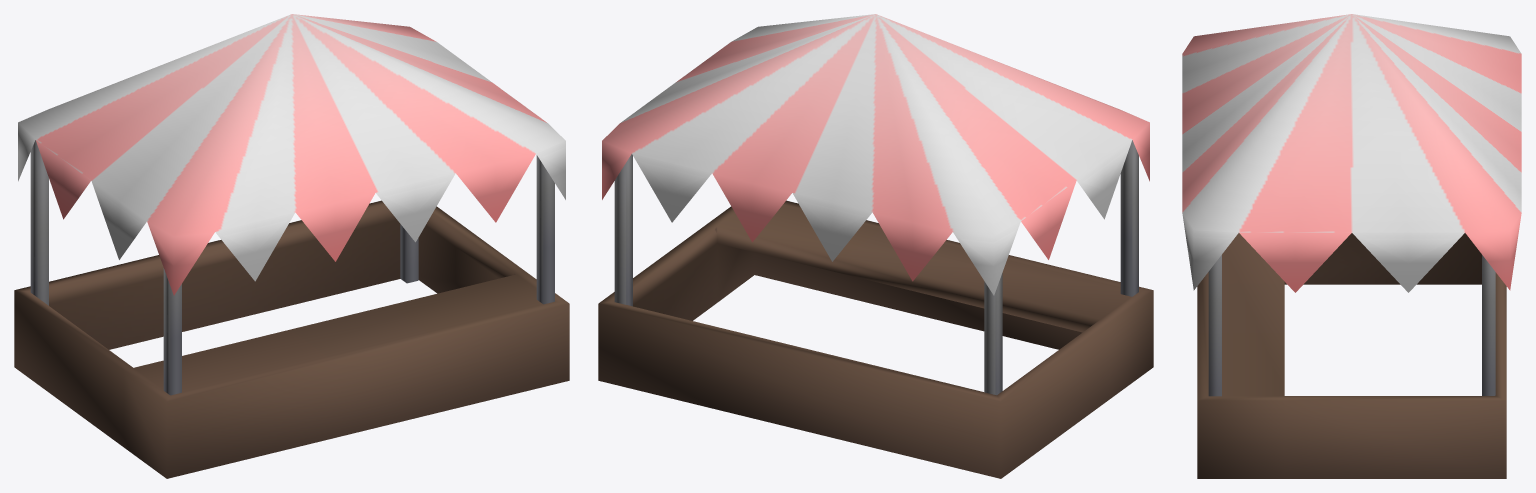
The model's file is Standbooth_striped.fbx.
The picture shows the model from 3 angles, left to right: view 1: azimuth 30°, elevation 25°; view 2: azimuth 150°, elevation 25°; view 3: azimuth 270°, elevation 25°; orthographic projection.
Visible parts, largest first — view 1: Striped_roof, Stand, Poles; view 2: Striped_roof, Stand, Poles; view 3: Striped_roof, Stand, Poles.
Part boxes in pixels (<box>): Striped_roof: <box>18,14,565,295</box>; Stand: <box>14,200,569,478</box>; Poles: <box>30,140,554,395</box>; Striped_roof: <box>602,14,1149,295</box>; Stand: <box>598,200,1153,478</box>; Poles: <box>614,140,1138,395</box>; Striped_roof: <box>1182,14,1521,292</box>; Stand: <box>1197,233,1506,478</box>; Poles: <box>1208,255,1495,396</box>.
Bounding box in the file's own units: 8.73 × 6.28 × 7.46.
Materials: 2 (2 with a texture image).
